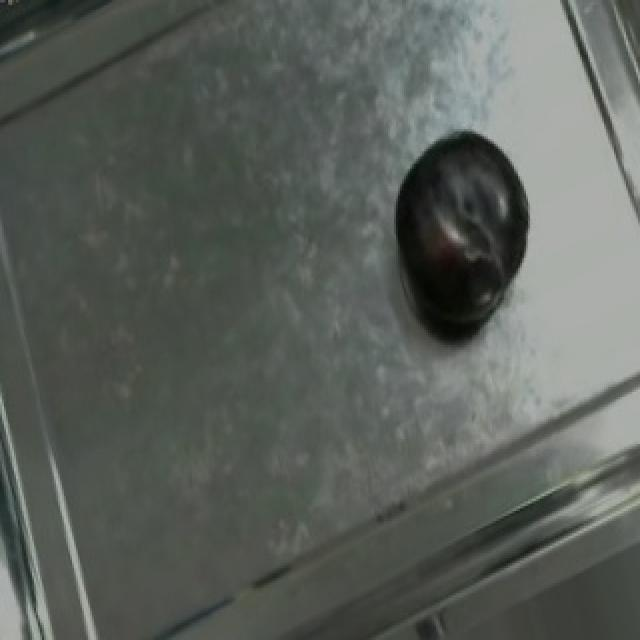Fruit: (374, 109, 548, 335)
